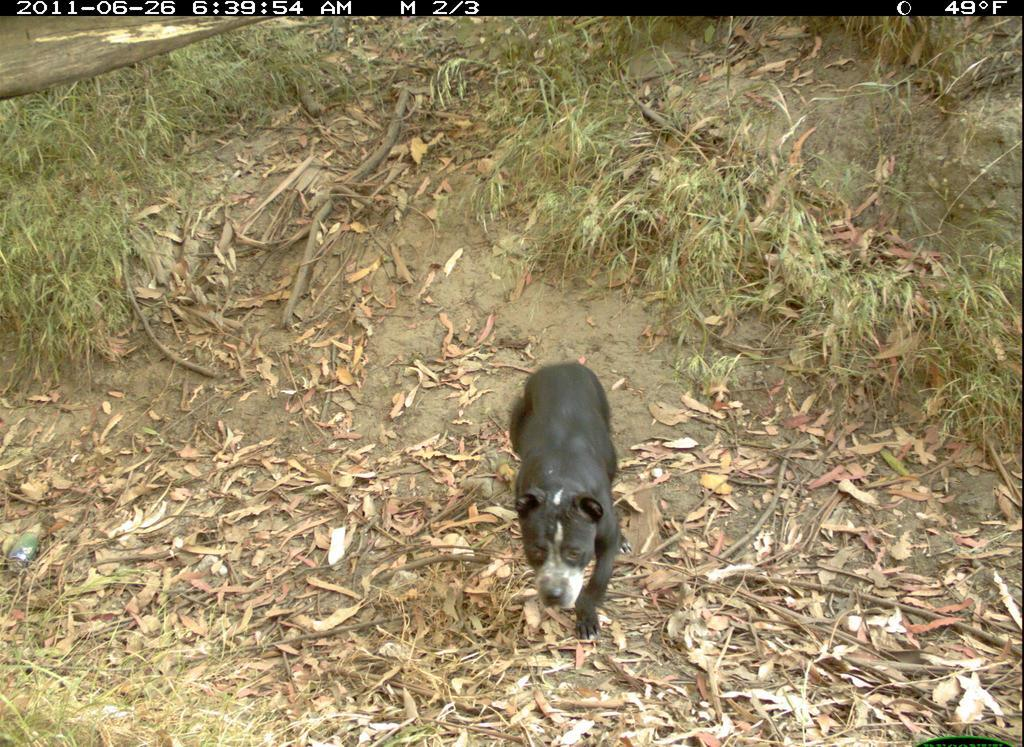dog: (492, 335, 648, 653)
